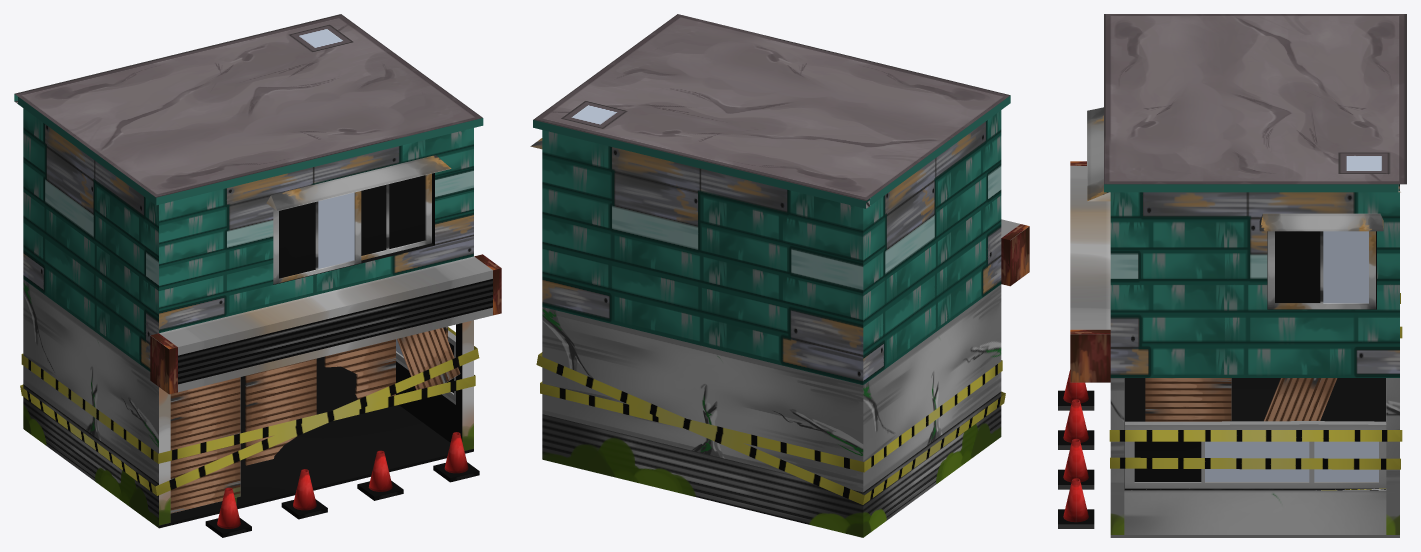
Rendered from House1.fbx.
3 views of the same model, side by side, from view 1: azimuth 30°, elevation 25°; view 2: azimuth 150°, elevation 25°; view 3: azimuth 270°, elevation 25° (orthographic). The views are drawn at different scales.
Visible parts, largest first — view 1: HouseNoAccess; view 2: HouseNoAccess; view 3: HouseNoAccess.
Boxes of the visible parts, bbox=[...] form: HouseNoAccess: bbox=[14, 14, 501, 537]; HouseNoAccess: bbox=[530, 14, 1029, 537]; HouseNoAccess: bbox=[1058, 14, 1406, 537].
Size of the model in its own units: 730 by 681 by 602.
